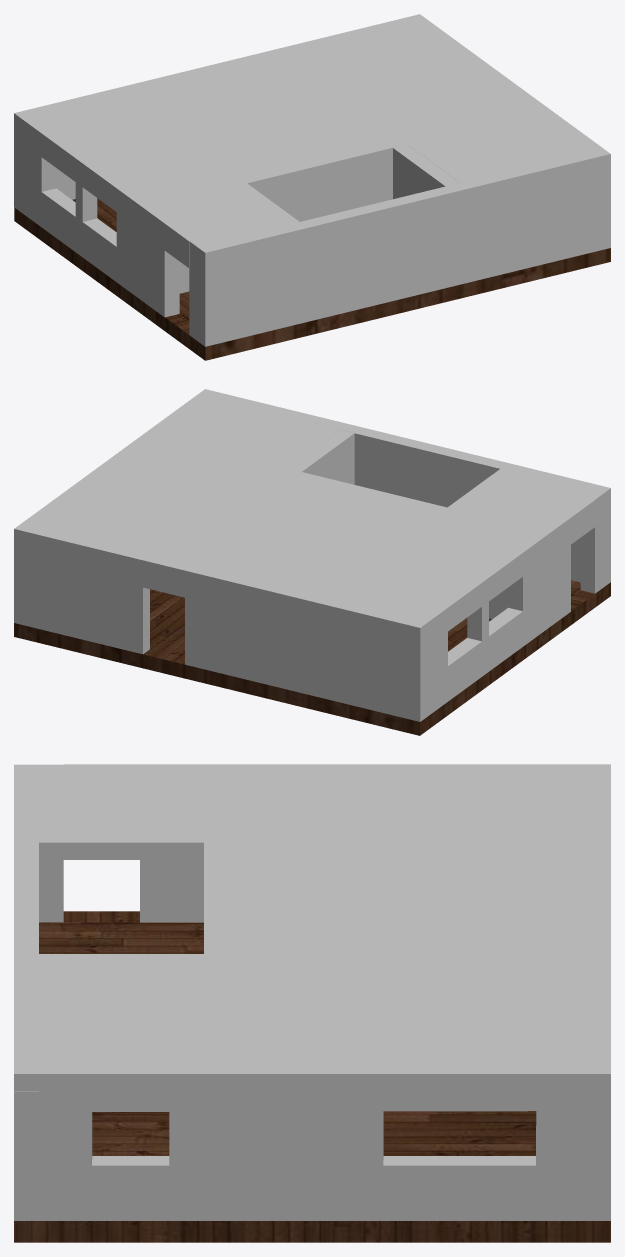
Rendered from house4.fbx.
The picture shows the model from 3 angles, top to bottom: view 1: azimuth 30°, elevation 25°; view 2: azimuth 150°, elevation 25°; view 3: azimuth 270°, elevation 25°; orthographic projection. The views are drawn at different scales.
Visible parts, largest first — view 1: pasted__pCube1; view 2: pasted__pCube1; view 3: pasted__pCube1.
Part boxes in pixels (bbox=[...]): pasted__pCube1: bbox=[14, 14, 610, 360]; pasted__pCube1: bbox=[14, 389, 610, 735]; pasted__pCube1: bbox=[14, 764, 610, 1242].
Bounding box in the file's own units: 29.37 × 7.46 × 23.93.
